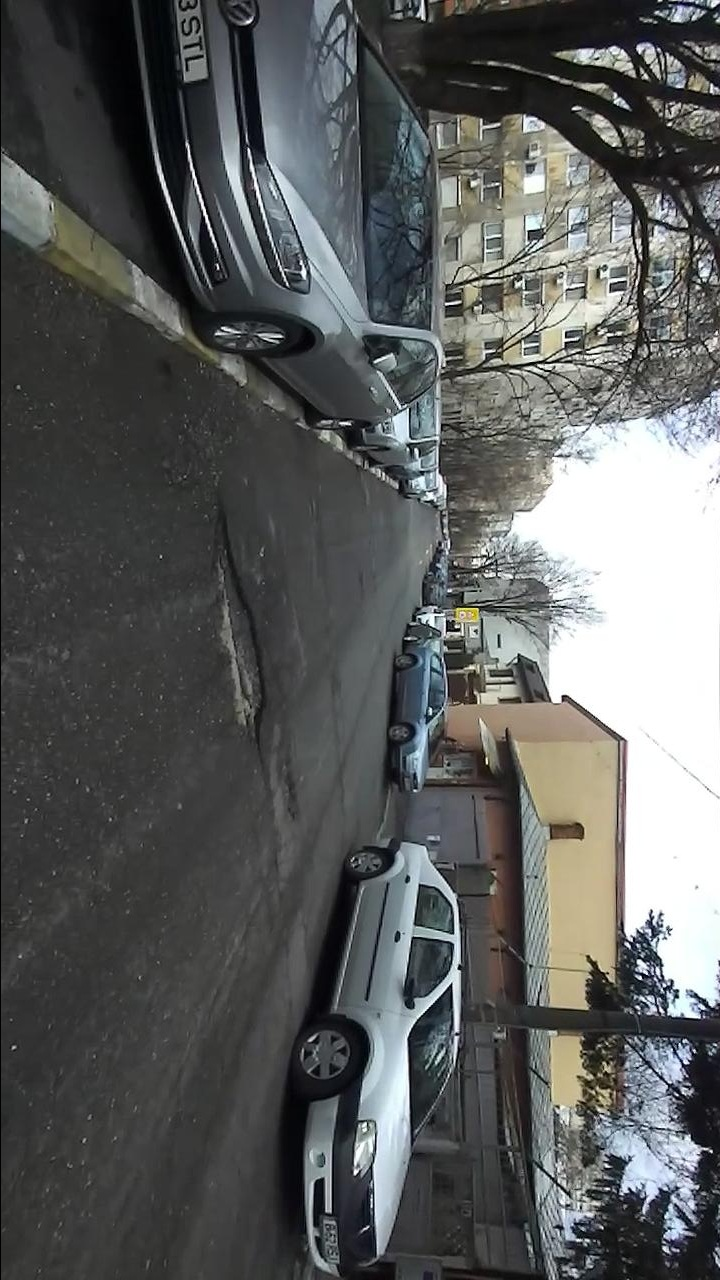pothole: (211, 499, 270, 776), (278, 748, 308, 825)
